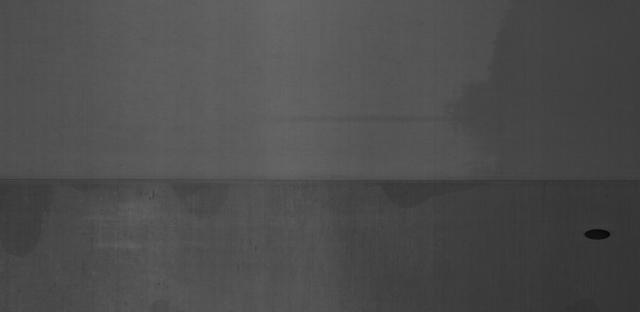punching_hole: (581, 226, 614, 244)
welding_line: (2, 170, 638, 190)
